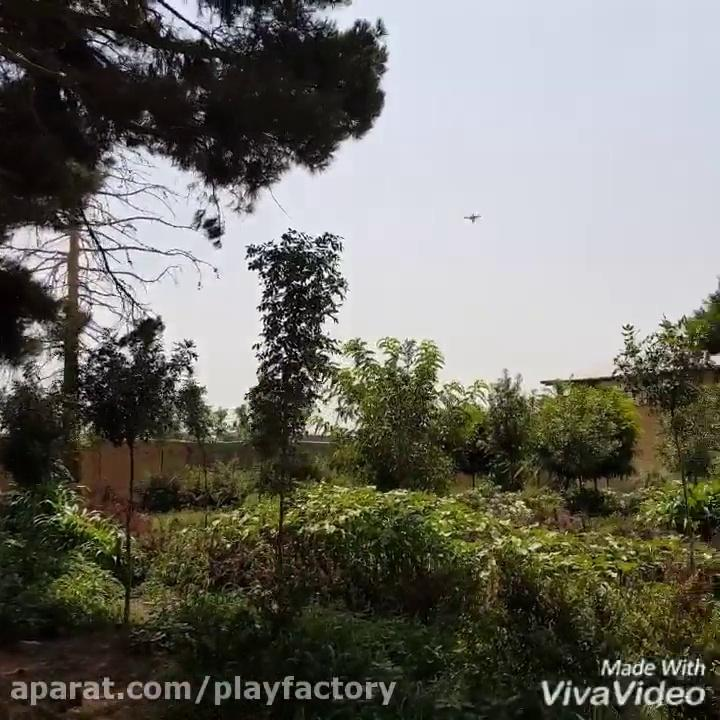drone: (460, 205, 484, 225)
